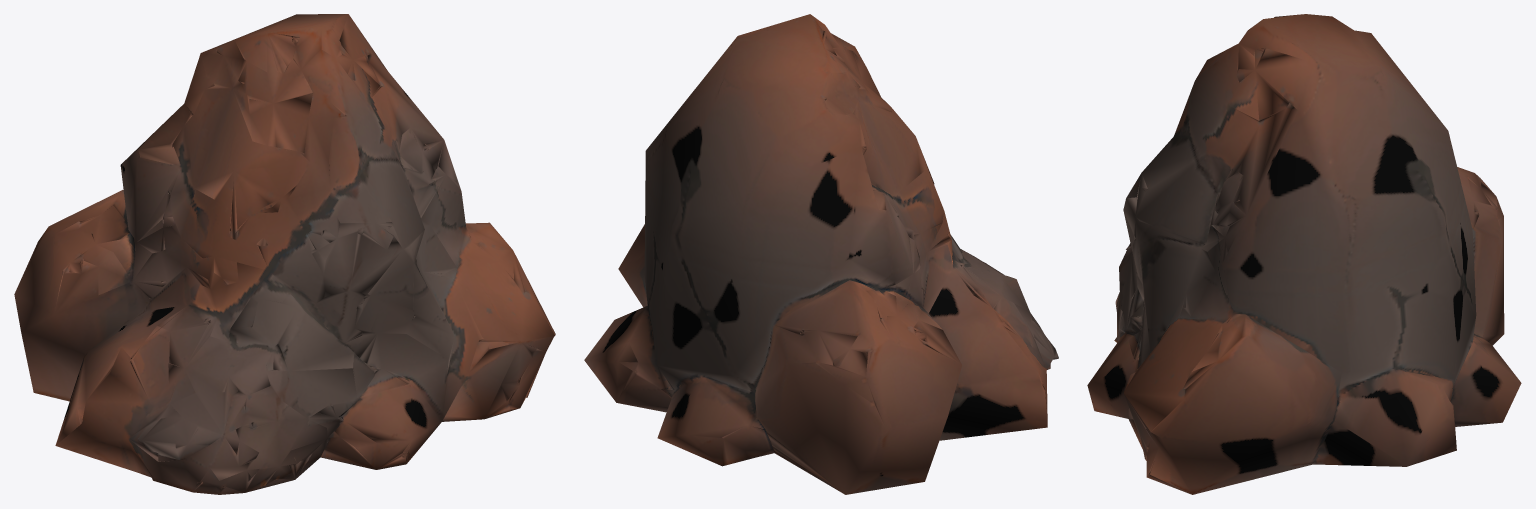
File: demir.glb
The picture shows the model from 3 angles, left to right: view 1: azimuth 30°, elevation 25°; view 2: azimuth 150°, elevation 25°; view 3: azimuth 270°, elevation 25°; orthographic projection. The views are drawn at different scales.
Parts seen in each view (by area): view 1: demir; view 2: demir; view 3: demir.
Boxes of the visible parts, x1,y1,x2,y2 form: demir: (14, 14, 555, 494); demir: (584, 14, 1058, 494); demir: (1087, 14, 1521, 494).
Bounding box in the file's own units: 1 × 0.8393 × 0.8271.
1 material, 1 textured.
